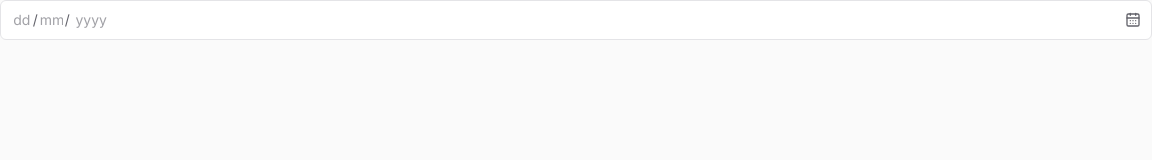
Test: shows day/month/year and fills in the current year
Type "20" into the field named "Hạn chót: ngày" at (22, 20), box [13,10,31,30]
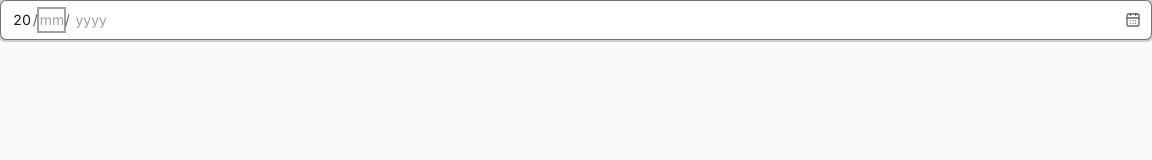
Type "11" into the field named "Hạn chót: tháng" at (51, 20), box [40,10,63,30]
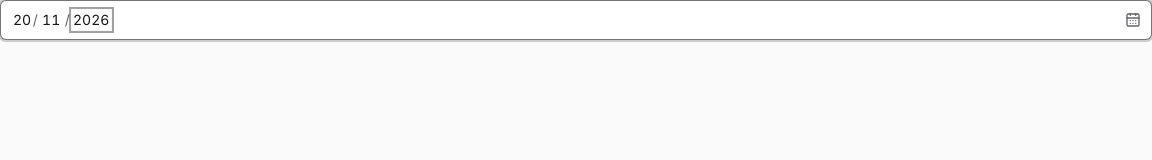
Check: the field named "Hạn chót: năm" holds "2026", box [72,10,111,30]
